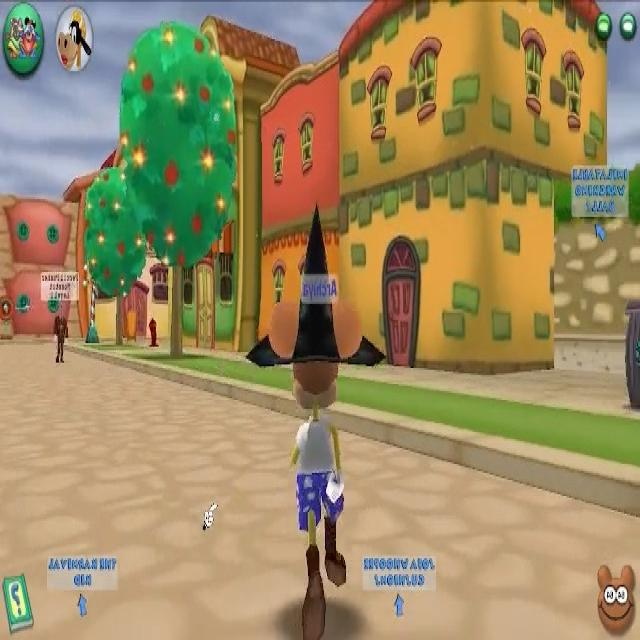pencilpusher: (40, 274, 78, 372)
